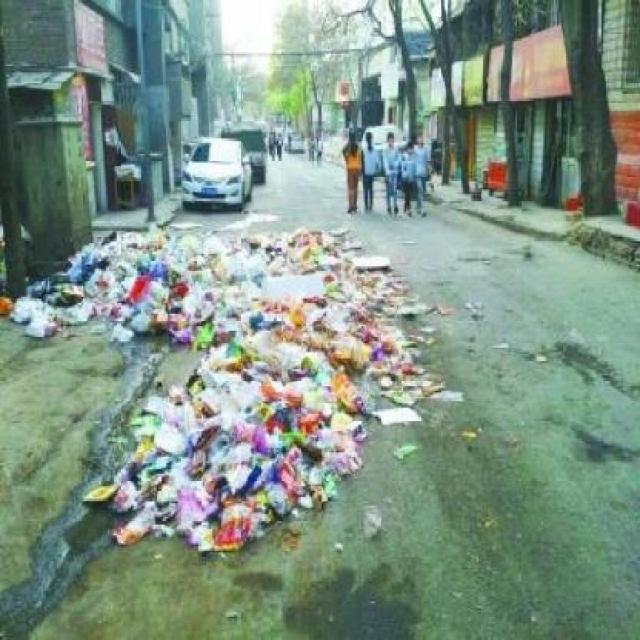garbage: (108, 225, 419, 328), (171, 328, 435, 435), (91, 465, 304, 534), (6, 291, 102, 325), (45, 243, 102, 286)
